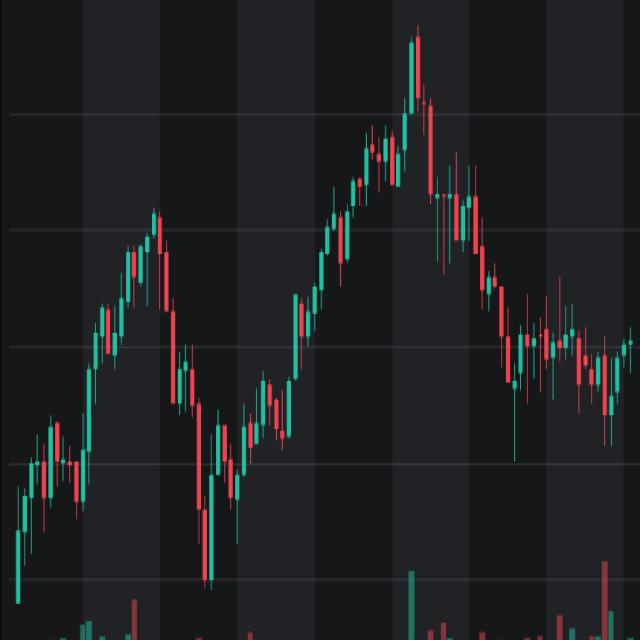Resistance-breakout: (72, 0, 486, 601)
